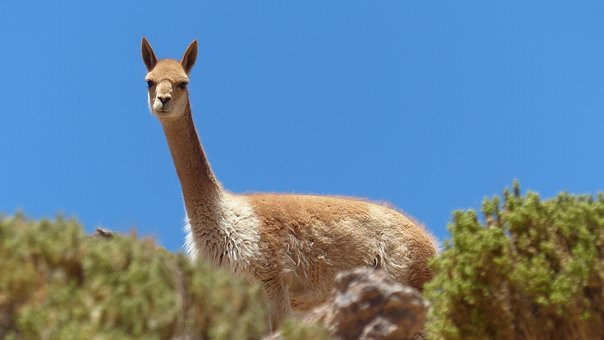alpaca: (139, 35, 439, 340)
